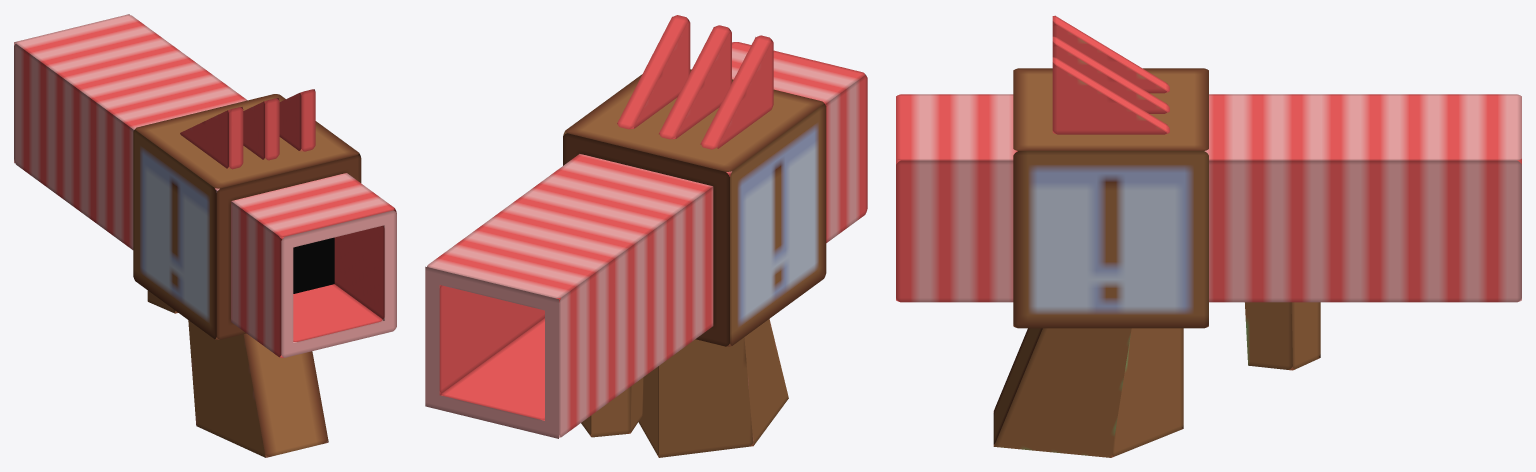
File: BoxCannon3000.fbx
3 renders of one model, left to right at view 1: azimuth 30°, elevation 25°; view 2: azimuth 150°, elevation 25°; view 3: azimuth 270°, elevation 25°, orthographic. The views are drawn at different scales.
Visible parts, largest first — view 1: Tube, Box, BigHandle?, Thingy1, Thingy3, Thingy2; view 2: Tube, Box, BigHandle?, Thingy1, Thingy3, Thingy2, Handle; view 3: Tube, Box, BigHandle?, Thingy3, Handle, Thingy1, Thingy2.
Part boxes in pixels (x1,y1,x2,y2): Tube: [14, 14, 396, 357]; Box: [133, 94, 361, 339]; BigHandle?: [188, 320, 328, 457]; Thingy1: [180, 107, 243, 169]; Thingy3: [279, 89, 315, 151]; Thingy2: [243, 98, 279, 160]; Tube: [425, 42, 867, 438]; Box: [563, 69, 826, 346]; BigHandle?: [638, 319, 788, 457]; Thingy1: [700, 35, 773, 149]; Thingy3: [617, 15, 690, 129]; Thingy2: [659, 25, 731, 139]; Handle: [581, 377, 643, 437]; Tube: [896, 94, 1521, 302]; Box: [1013, 68, 1208, 328]; BigHandle?: [993, 328, 1183, 457]; Thingy3: [1052, 57, 1169, 134]; Handle: [1245, 302, 1320, 370]; Thingy1: [1052, 15, 1169, 93]; Thingy2: [1052, 36, 1169, 113].
Bounding box in the file's own units: 62.5 × 138 × 200.
1 material, 1 textured.
